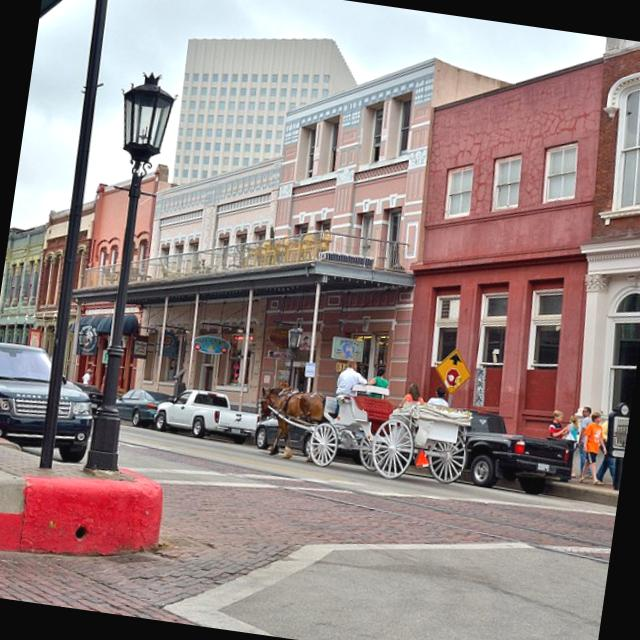Vehicle: (0, 339, 578, 529), (150, 383, 264, 448), (253, 387, 340, 460), (112, 386, 176, 434), (68, 382, 105, 414)
